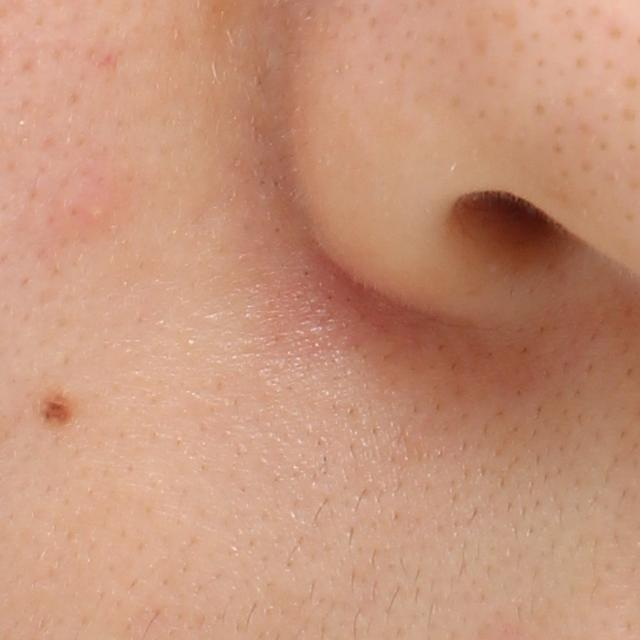nevus: (36, 384, 82, 432)
